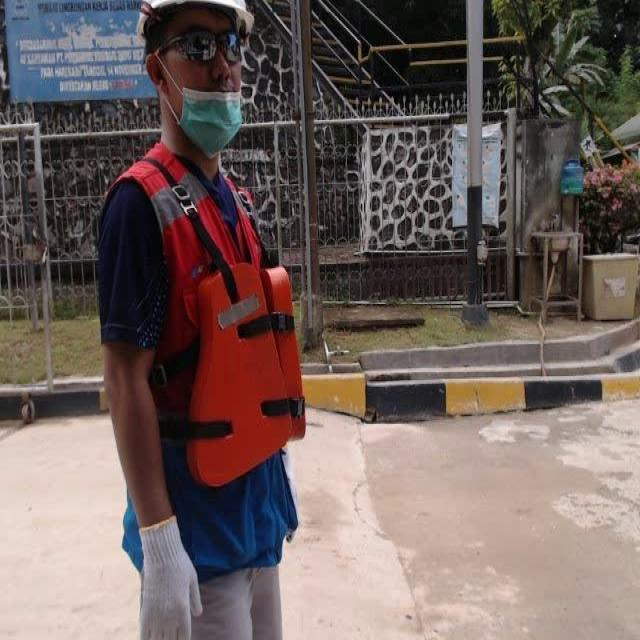Vest: (187, 251, 312, 488)
